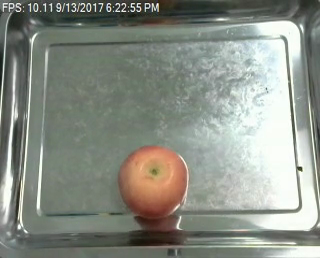Apple: (116, 142, 189, 220)
